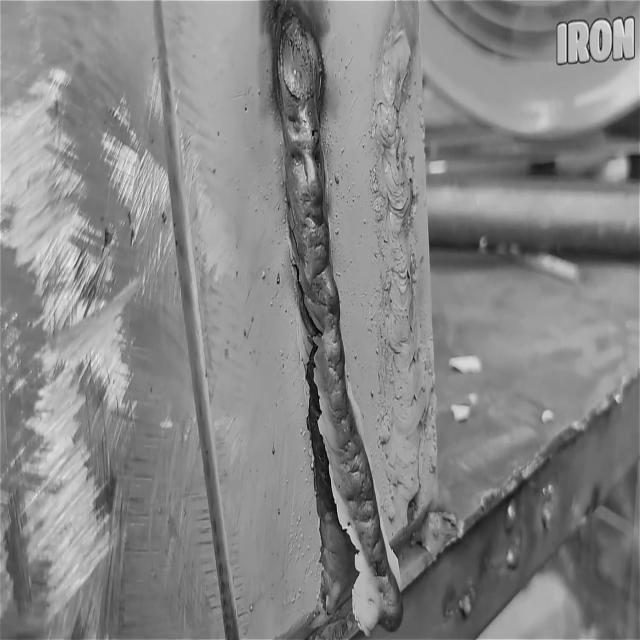Bad Weld: (271, 2, 401, 630), (372, 30, 422, 521)
Defect: (278, 154, 357, 606)
